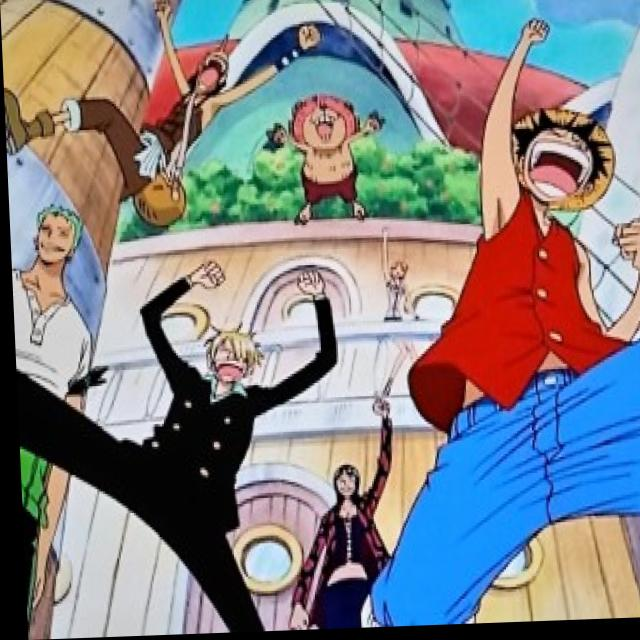Chyopa: (257, 82, 386, 230)
Luffy: (491, 104, 627, 228)
Sangdi: (192, 312, 269, 404)
Usopp: (178, 33, 247, 116)
Zoro: (23, 193, 98, 278)
